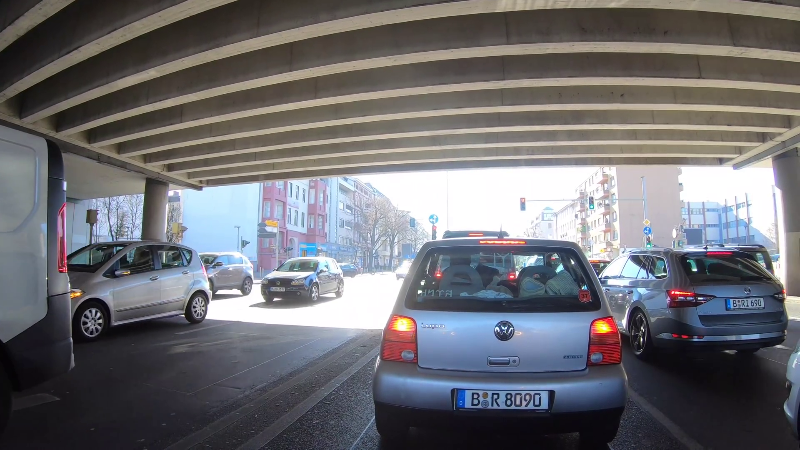Plate: (453, 387, 558, 411), (725, 297, 768, 311), (269, 285, 285, 293)
